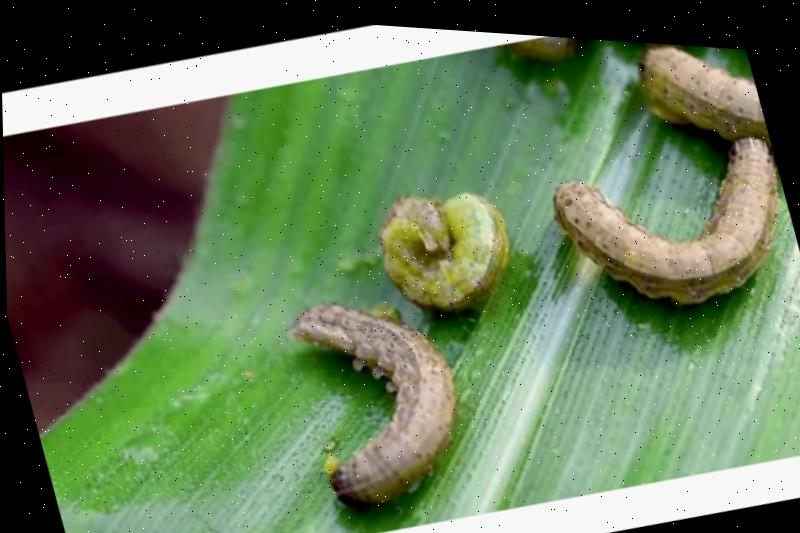fall-armyworm: (552, 125, 784, 298), (290, 297, 457, 506), (377, 185, 513, 308), (640, 37, 773, 139)
